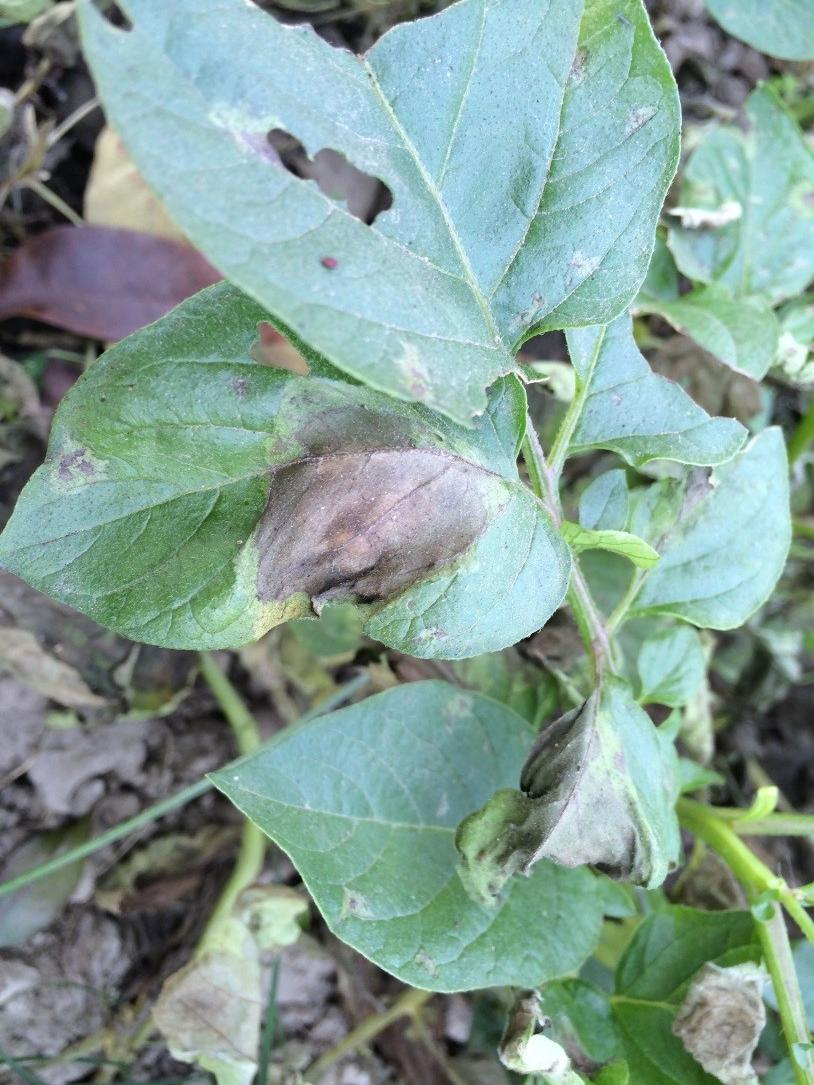Tomato leaf late blight: (214, 434, 595, 675), (463, 668, 696, 901)
